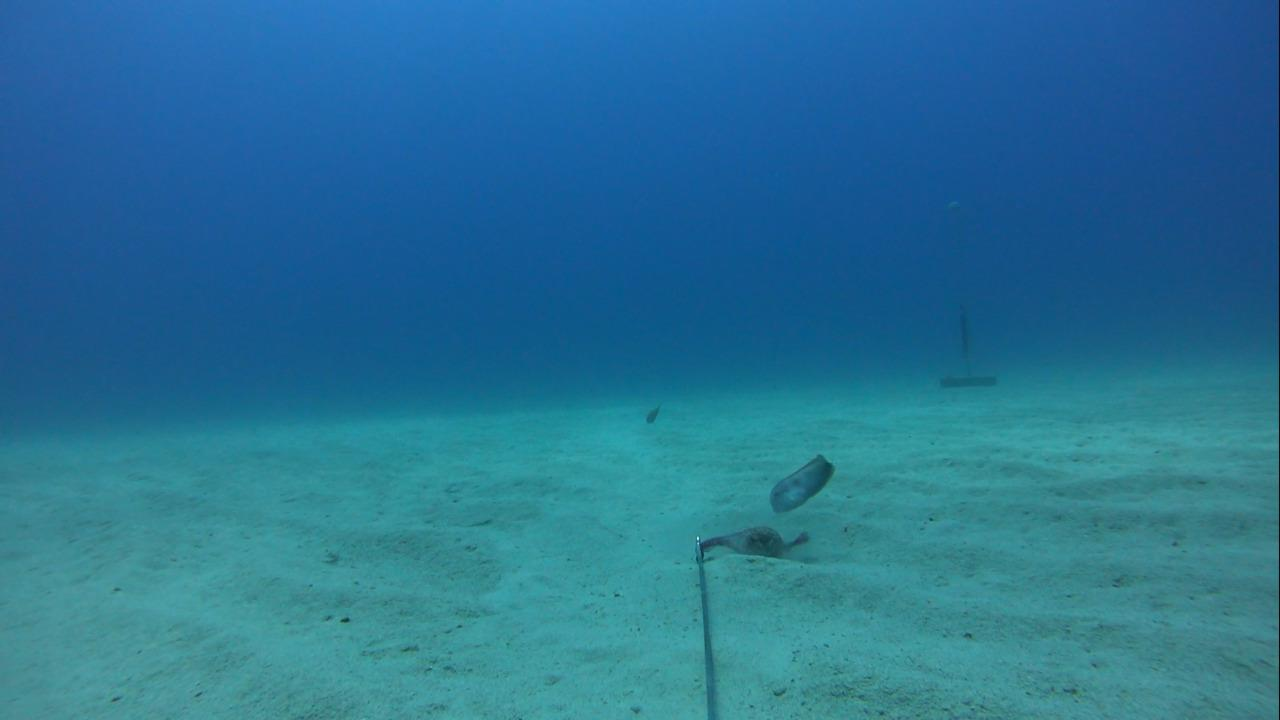raor: (762, 445, 838, 518), (637, 398, 669, 430)
